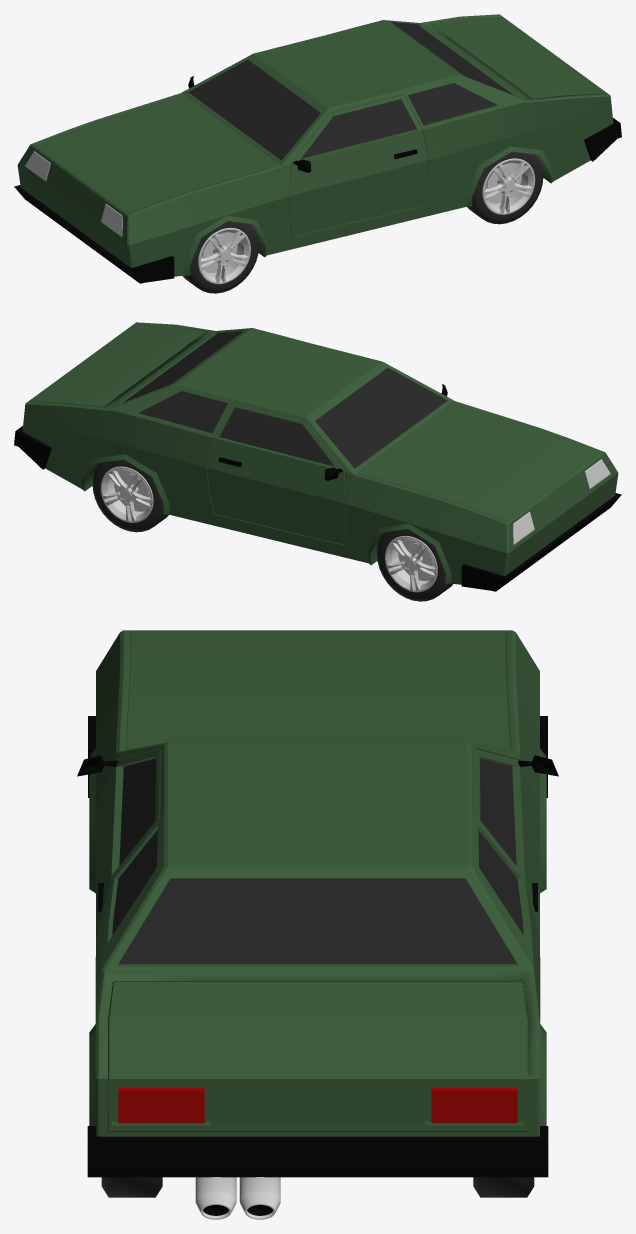
The model's file is auto.fbx.
3 renders of one model, top to bottom at view 1: azimuth 30°, elevation 25°; view 2: azimuth 150°, elevation 25°; view 3: azimuth 270°, elevation 25°, orthographic. The views are drawn at different scales.
Parts seen in each view (by area): view 1: Cube_002, Circle_001, Circle_000; view 2: Cube_002, Circle_001, Circle_000; view 3: Cube_002, Cylinder, Circle_001.
Boxes of the visible parts, box(x1,y1,x2,y2) form: Cube_002: box(14, 14, 621, 283); Circle_001: box(467, 151, 543, 224); Circle_000: box(182, 221, 259, 293); Cube_002: box(14, 322, 621, 591); Circle_001: box(92, 459, 168, 532); Circle_000: box(376, 529, 453, 601); Cube_002: box(77, 630, 558, 1177); Cylinder: box(195, 1177, 280, 1219); Circle_001: box(101, 1177, 534, 1197).
Bounding box in the file's own units: 10.14 × 2.86 × 4.29.
